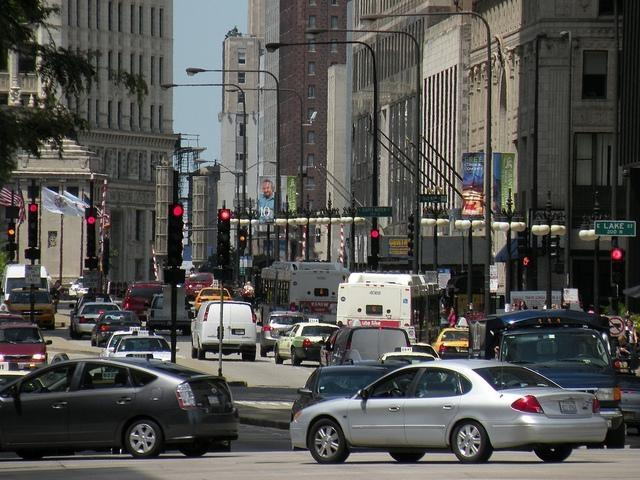bus: (336, 271, 445, 344), (258, 262, 350, 325)
car: (290, 356, 610, 466), (0, 359, 238, 455), (291, 363, 390, 421), (190, 300, 256, 360), (273, 323, 343, 366), (0, 320, 53, 376), (260, 312, 306, 356), (69, 302, 122, 340), (112, 331, 180, 360), (91, 311, 142, 347), (121, 284, 163, 322), (184, 274, 214, 296)
truck: (492, 305, 640, 449)
